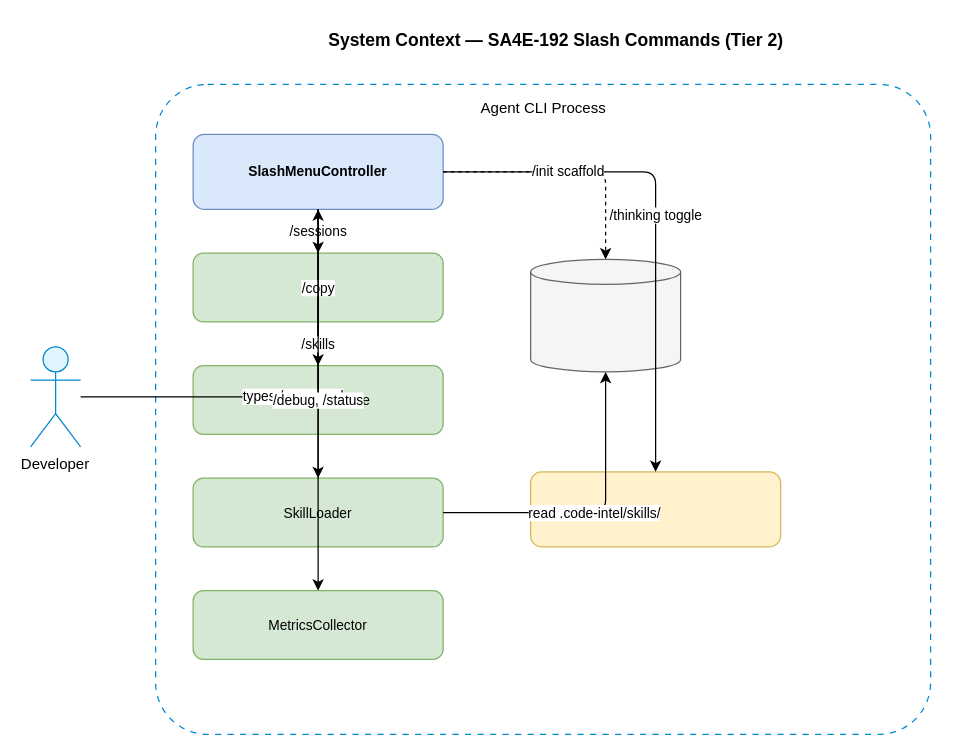
Image size: 953x756. Some labels were removed from this diagram. The box of each missing label's shape, as (x1, y1, x2, y2) in pixels:
ConfigStore (.code-intel/): (529, 258, 681, 372)
LLMClient (thinking stream): (529, 471, 781, 547)
SessionManager: (192, 252, 443, 322)
